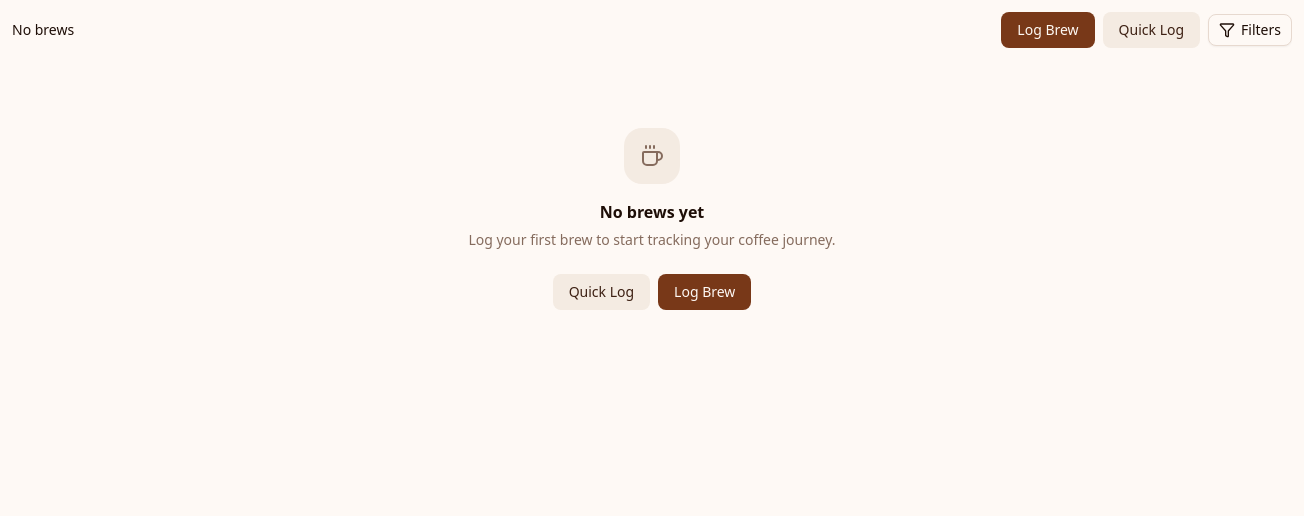
Scenario: BrewLogListPage › can show unavailable beans from the availability filter
Click the button with aria-label "Show filters": (1250, 30) [1208,14,1292,46]
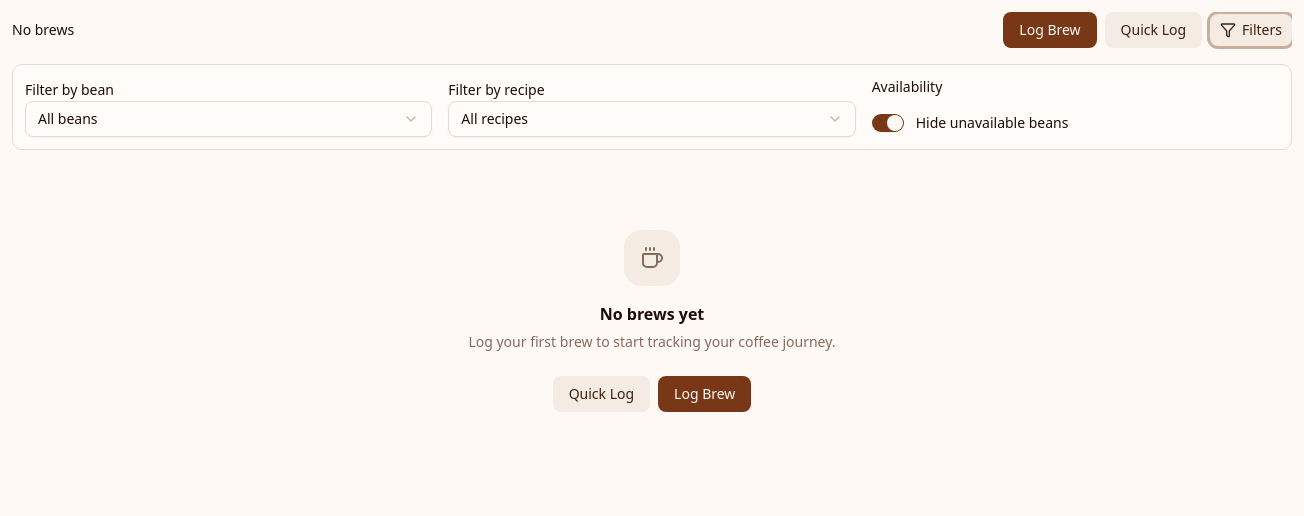
Click the switch named "Hide unavailable beans": (888, 123) [872,114,904,132]
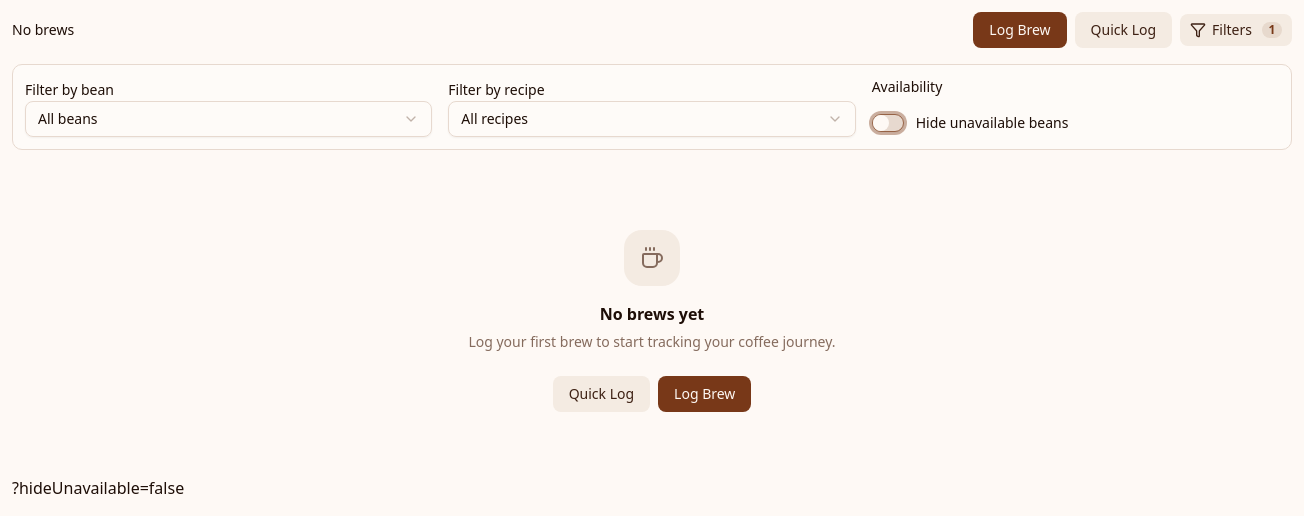
Expected: the text with test id "location-search" reads "?hideUnavailable=false", [12,477,184,499]
